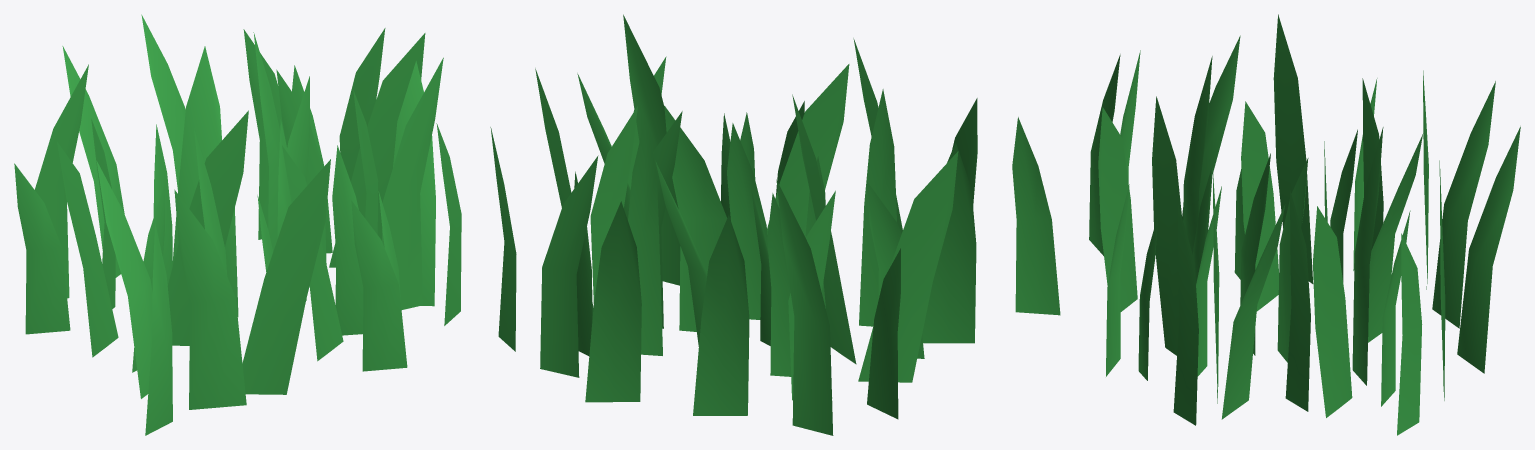
The model's file is Grama_02.fbx.
The picture shows the model from 3 angles, left to right: view 1: azimuth 30°, elevation 25°; view 2: azimuth 150°, elevation 25°; view 3: azimuth 270°, elevation 25°; orthographic projection. The views are drawn at different scales.
Parts seen in each view (by area): view 1: Plane.009; view 2: Plane.009; view 3: Plane.009.
Part boxes in pixels (x1=…): Plane.009: x1=14, y1=14, x2=461, y2=435; Plane.009: x1=490, y1=14, x2=1060, y2=435; Plane.009: x1=1089, y1=14, x2=1520, y2=435.
Size of the model in its own units: 93.24 by 57.16 by 87.33.
